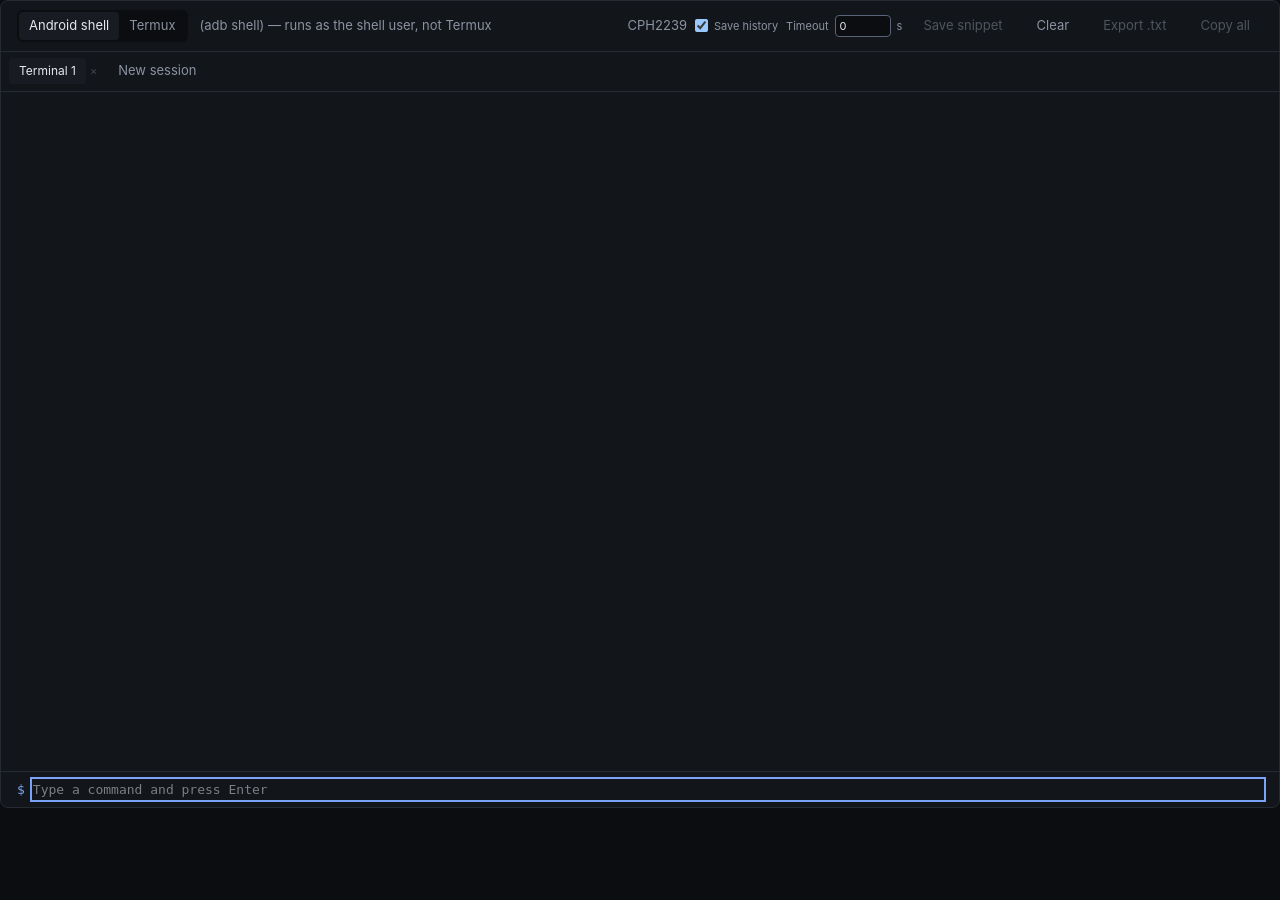
Test case: TerminalView › runs in Termux over SSH when selected and labels the block
The image size is (1280, 900).
Click the radio button labelled "Termux" at {"x": 152, "y": 26}, box [119,12,186,40]
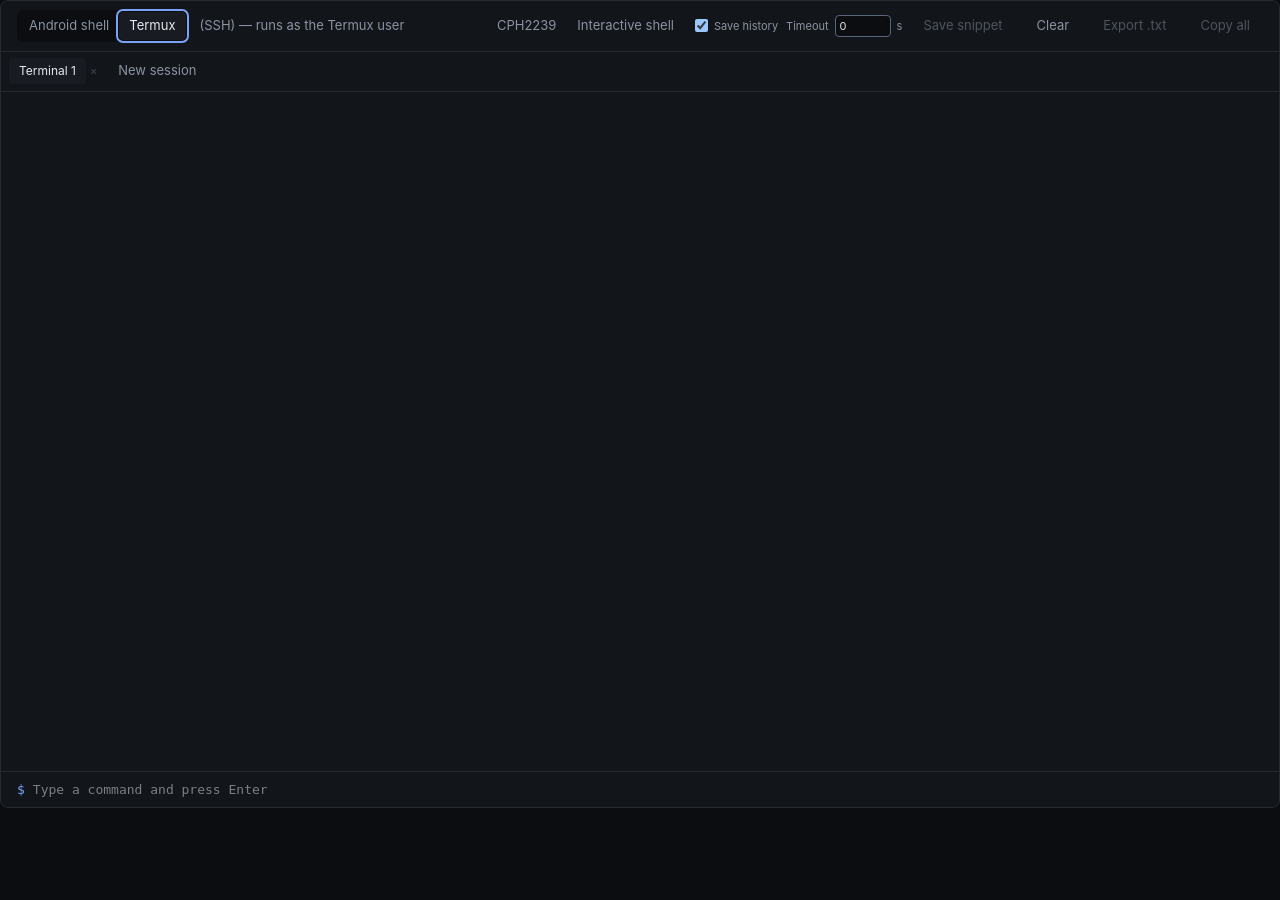
Expected: the text "(SSH) — runs as the Termux user" is shown, [200,16,404,36]
Type "whoami" into the field labelled "command" at {"x": 648, "y": 789}, box [33,780,1263,799]
Then press Enter
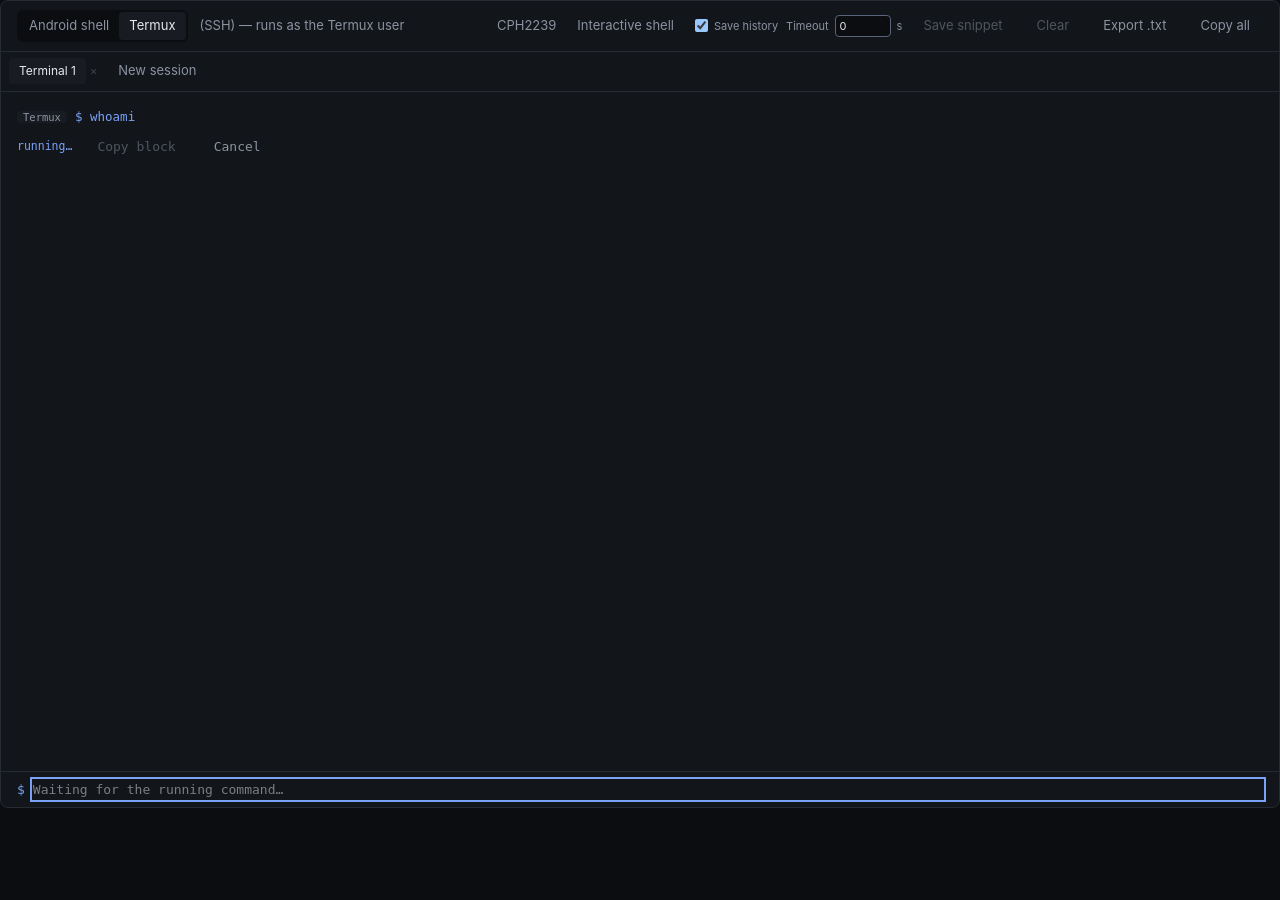
Expected: the element showing "Termux$ whoami running… Copy block Cancel" is shown, [17,108,274,164]
